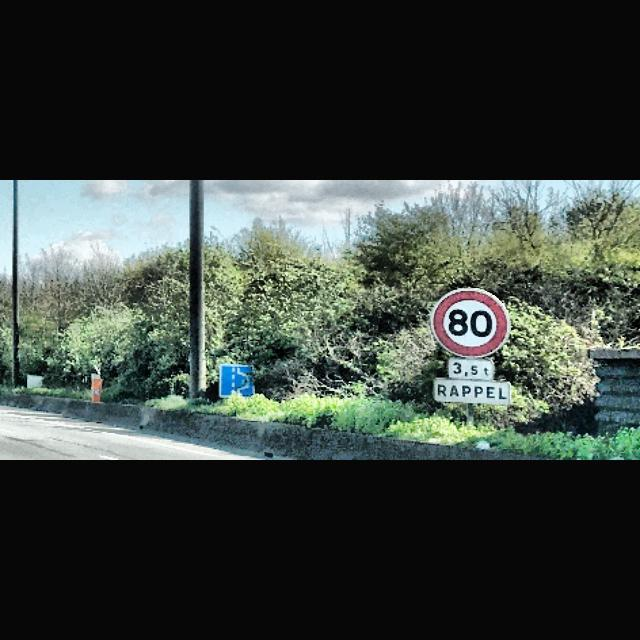speed_80: (430, 287, 512, 359)
